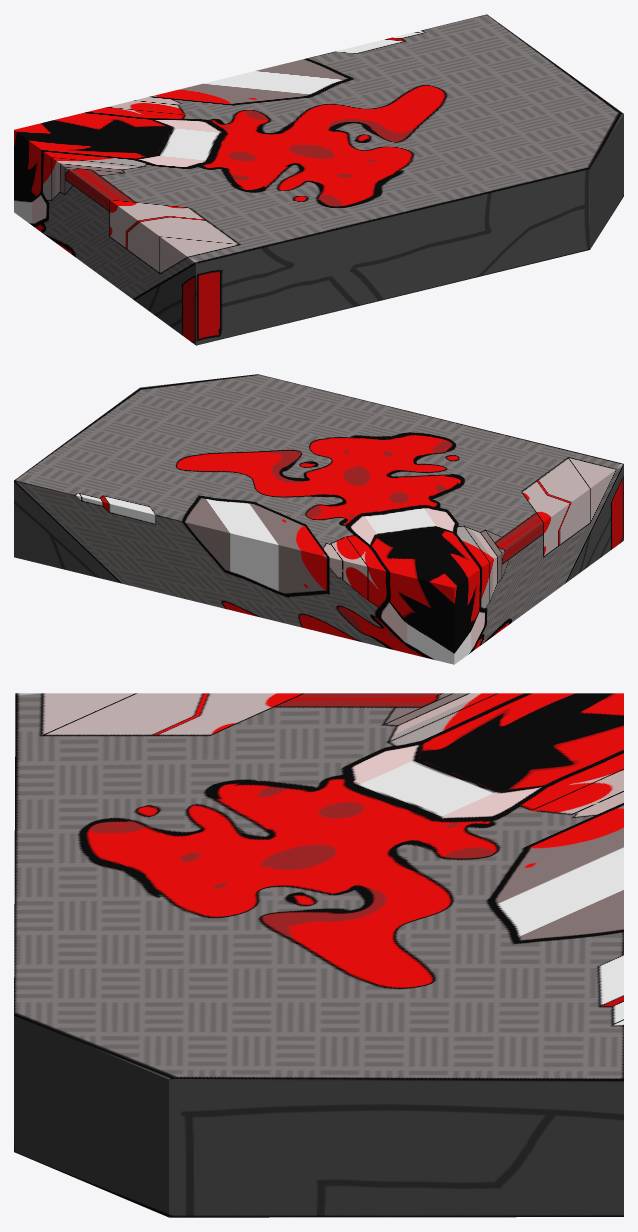
Rendered from floor.fbx.
The picture shows the model from 3 angles, top to bottom: view 1: azimuth 30°, elevation 25°; view 2: azimuth 150°, elevation 25°; view 3: azimuth 270°, elevation 25°; orthographic projection. The views are drawn at different scales.
Visible parts, largest first — view 1: Cube.006; view 2: Cube.006; view 3: Cube.006.
Boxes of the visible parts, x1,y1,x2,y2 form: Cube.006: (14, 14, 623, 345); Cube.006: (14, 374, 623, 664); Cube.006: (14, 693, 623, 1217).
Size of the model in its own units: 601 by 100 by 401.
